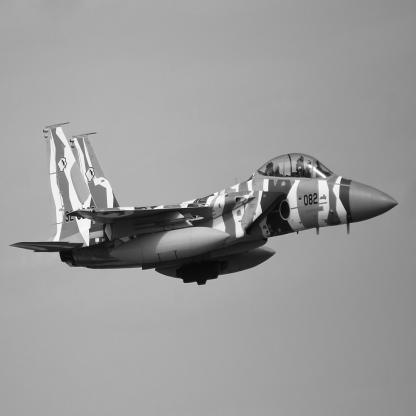F15: (10, 123, 400, 288)
